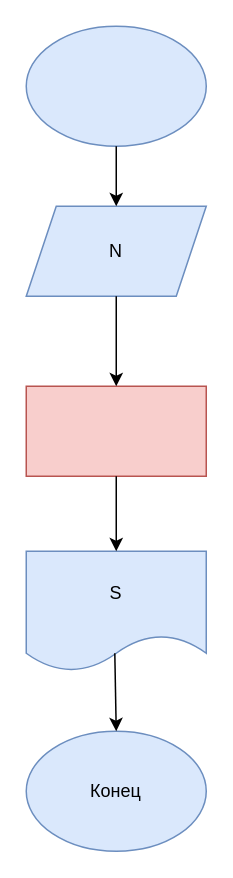
Image size: 233x878. Some labels were removed from this diagram. The centre of each missing label's shape, as x and y in pixels:
S = (N *(N + 1)) / 2: point (115, 430)
Начало: point (115, 85)
